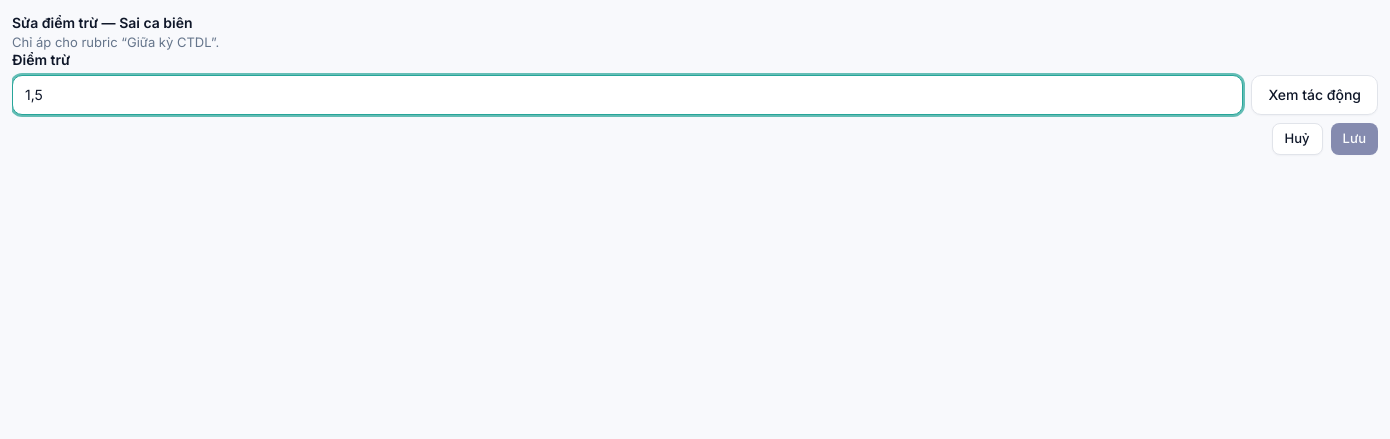
it: PricePopover (T-RBE-UI-4) › đổi số sau khi xem trước → xoá xem trước cũ và khoá nút lưu (không lưu theo tác động của số cũ)
Click the button "Xem tác động": (1315,94) [1251,74,1378,114]
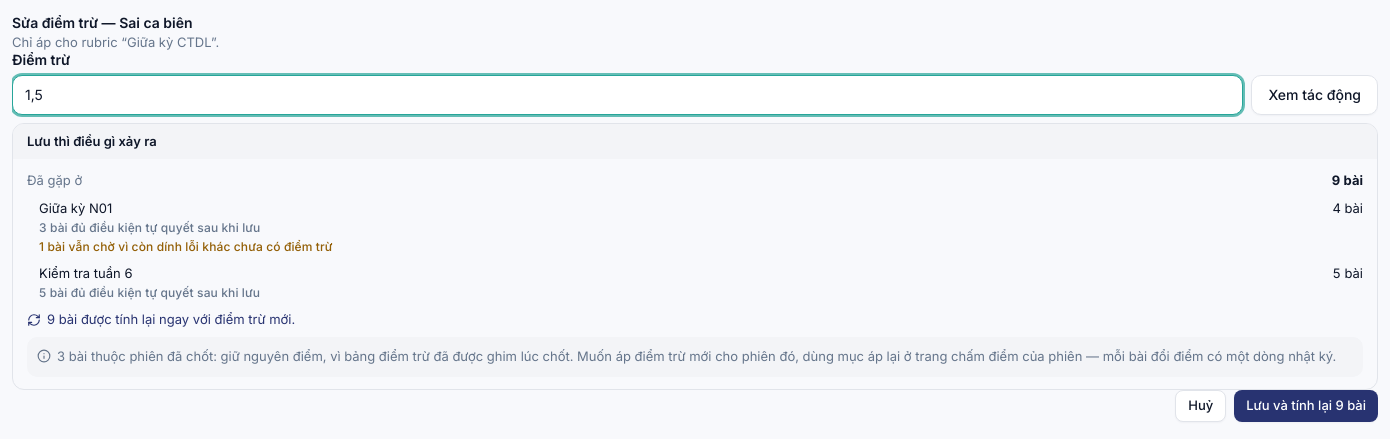
Check: the button "Lưu và tính lại 9 bài" is enabled, box [1234,390,1378,422]
Replace the text in the field labelled "Điểm trừ" with "2": (628,94) [12,74,1243,114]
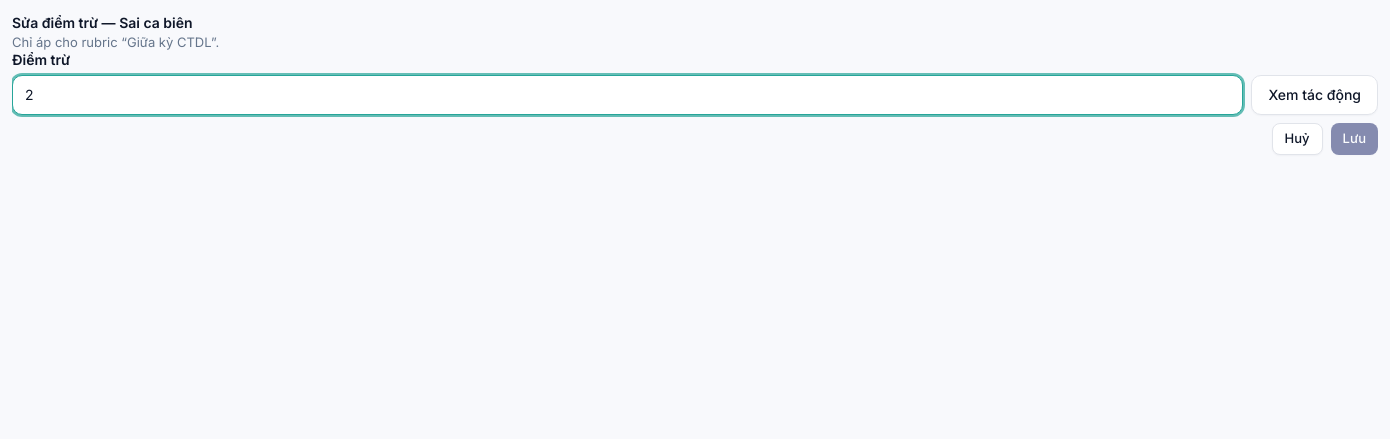
Check: the button "Lưu" is disabled, box [1331,122,1378,154]
